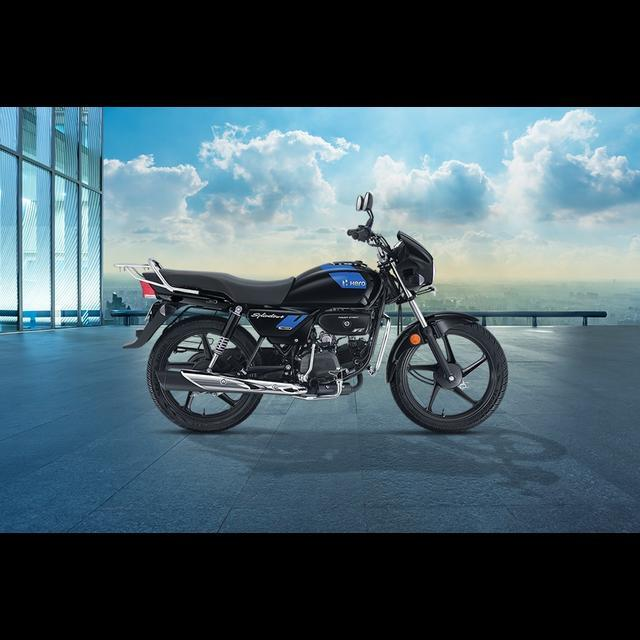motorcycle: (119, 187, 517, 440)
